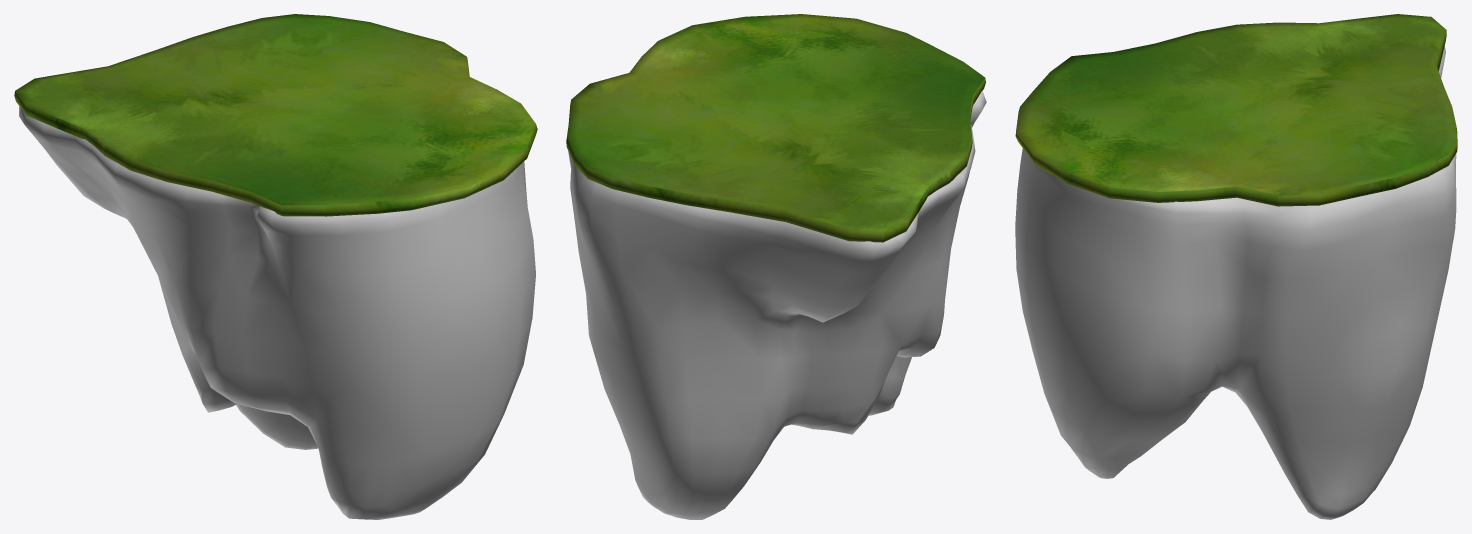
Rendered from Island_main.fbx.
3 views of the same model, side by side, from view 1: azimuth 30°, elevation 25°; view 2: azimuth 150°, elevation 25°; view 3: azimuth 270°, elevation 25° (orthographic). The views are drawn at different scales.
Visible parts, largest first — view 1: Rock, Terrain; view 2: Rock, Terrain; view 3: Rock, Terrain.
Boxes of the visible parts, x1,y1,x2,y2 form: Rock: (19,106,535,519); Terrain: (14,14,537,216); Rock: (568,91,986,519); Terrain: (566,14,985,242); Rock: (1015,46,1456,519); Terrain: (1015,14,1457,206).
Size of the model in its own units: 205 by 194 by 209.
